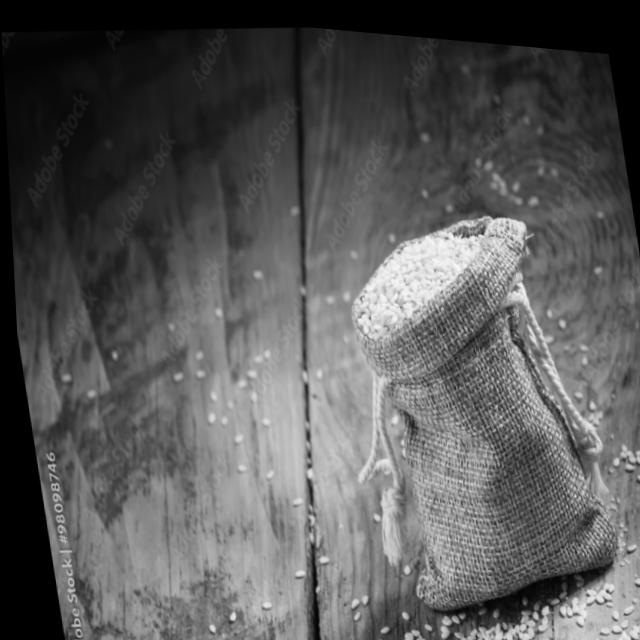sack: (313, 185, 622, 622)
